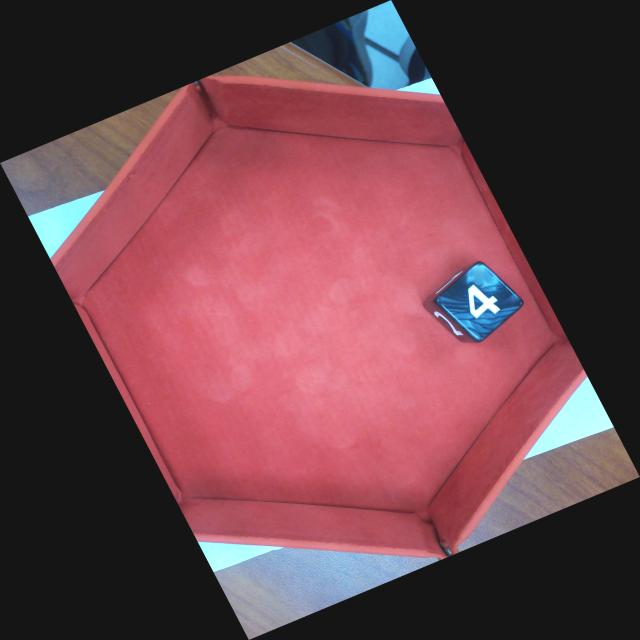dice: (433, 259, 527, 347)
